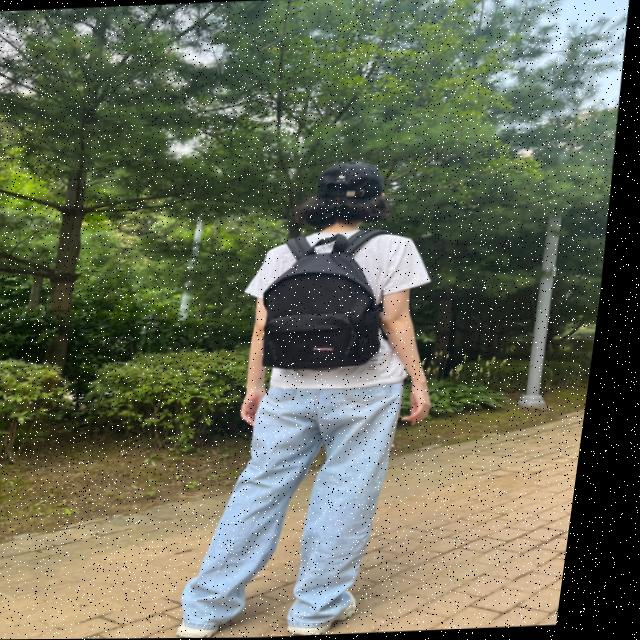backpack: (255, 219, 424, 379)
